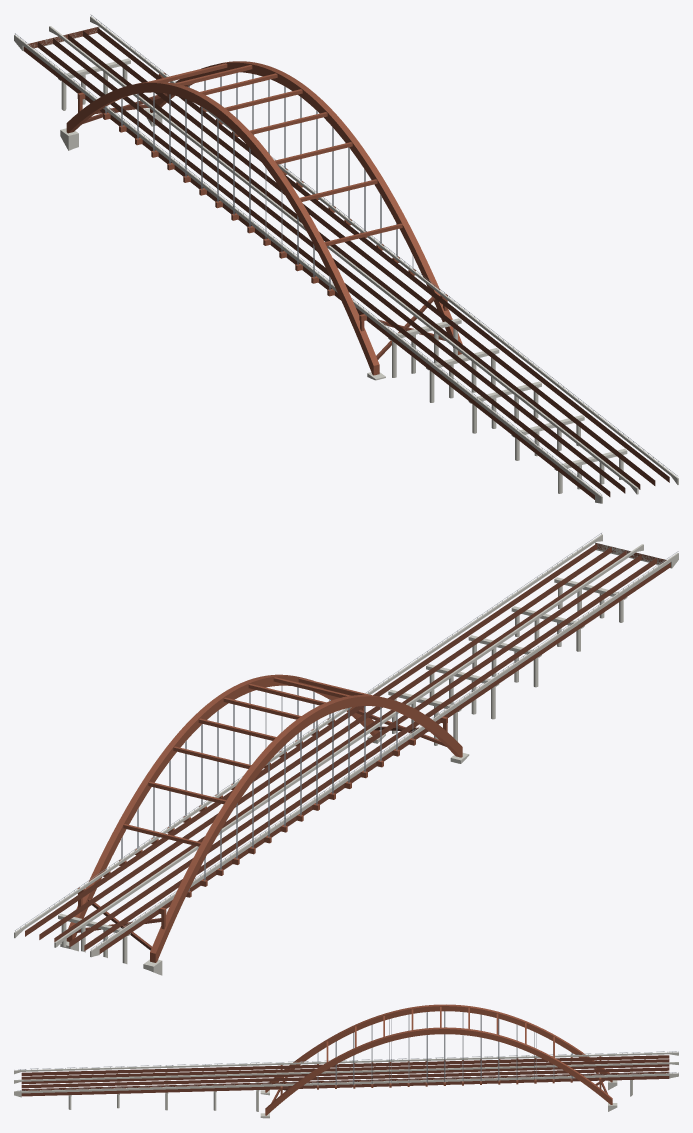
The model's file is atx-pennybacker-bridge.detail.glb.
The picture shows the model from 3 angles, top to bottom: view 1: azimuth 30°, elevation 25°; view 2: azimuth 150°, elevation 25°; view 3: azimuth 270°, elevation 25°; orthographic projection. The views are drawn at different scales.
Visible parts, largest first — view 1: Pennybacker Bridge; view 2: Pennybacker Bridge; view 3: Pennybacker Bridge.
Part boxes in pixels (x1,y1,x2,y2): Pennybacker Bridge: [14, 14, 678, 503]; Pennybacker Bridge: [14, 533, 678, 975]; Pennybacker Bridge: [14, 1004, 678, 1118].
Bounding box in the file's own units: 32.4 × 51.89 × 352.
